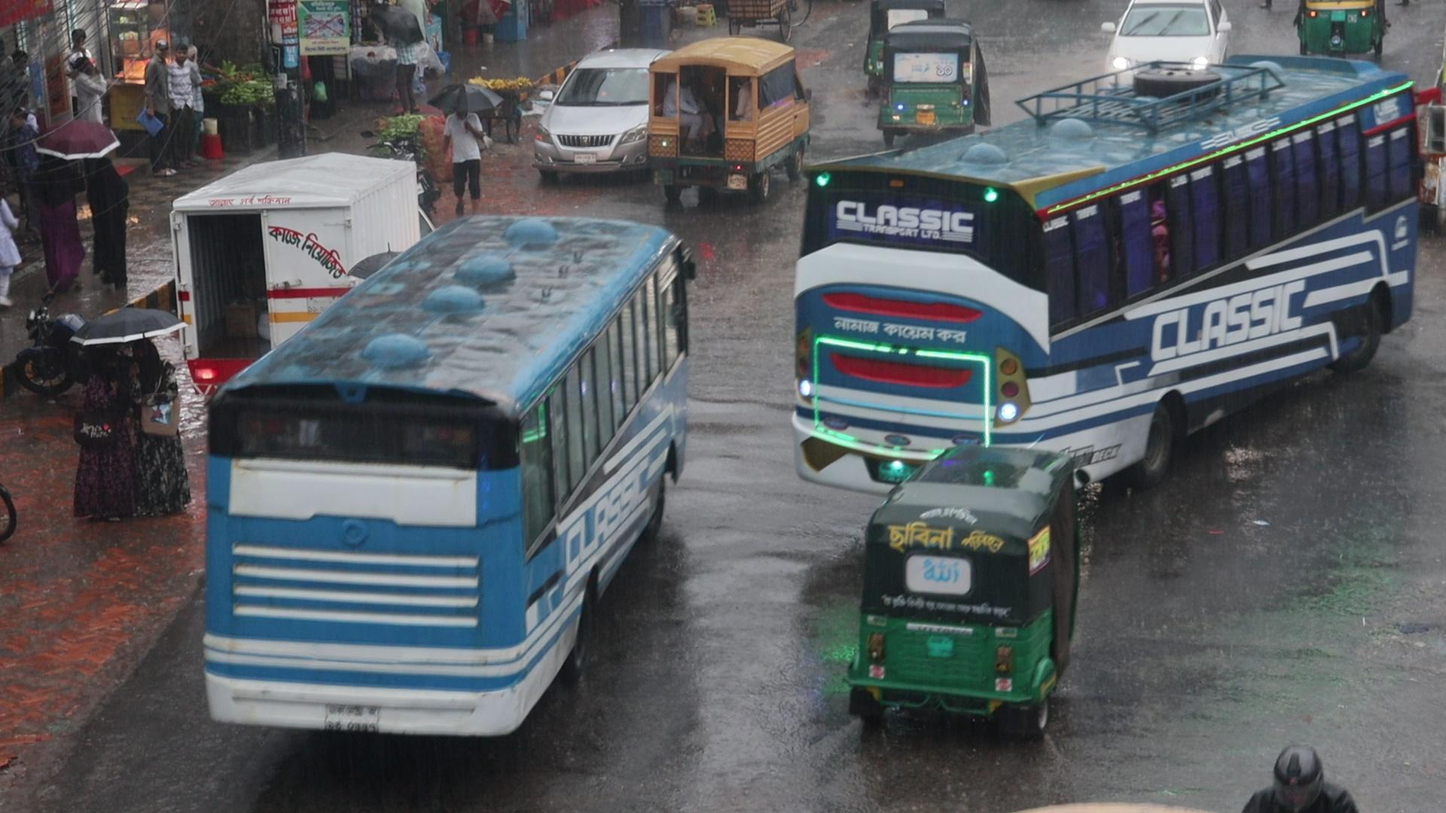Bus: (196, 209, 703, 750), (788, 47, 1424, 446)
Car: (530, 46, 648, 180)
Truck: (644, 34, 812, 186)
